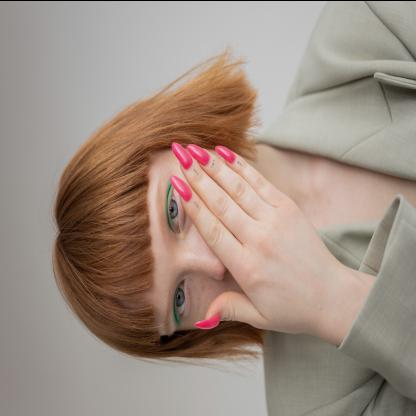Eye: (172, 274, 190, 326), (167, 186, 185, 235)
Nose: (186, 242, 228, 278)
